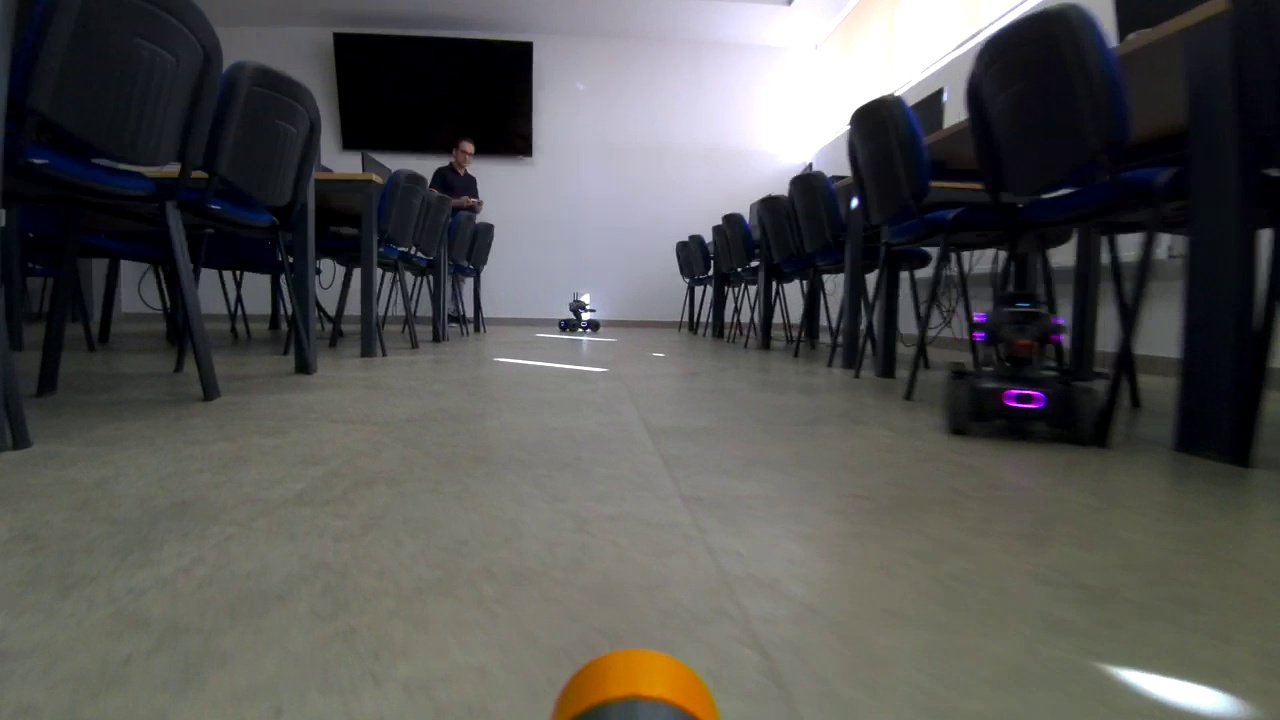robot: (940, 296, 1117, 449), (558, 295, 609, 335)
